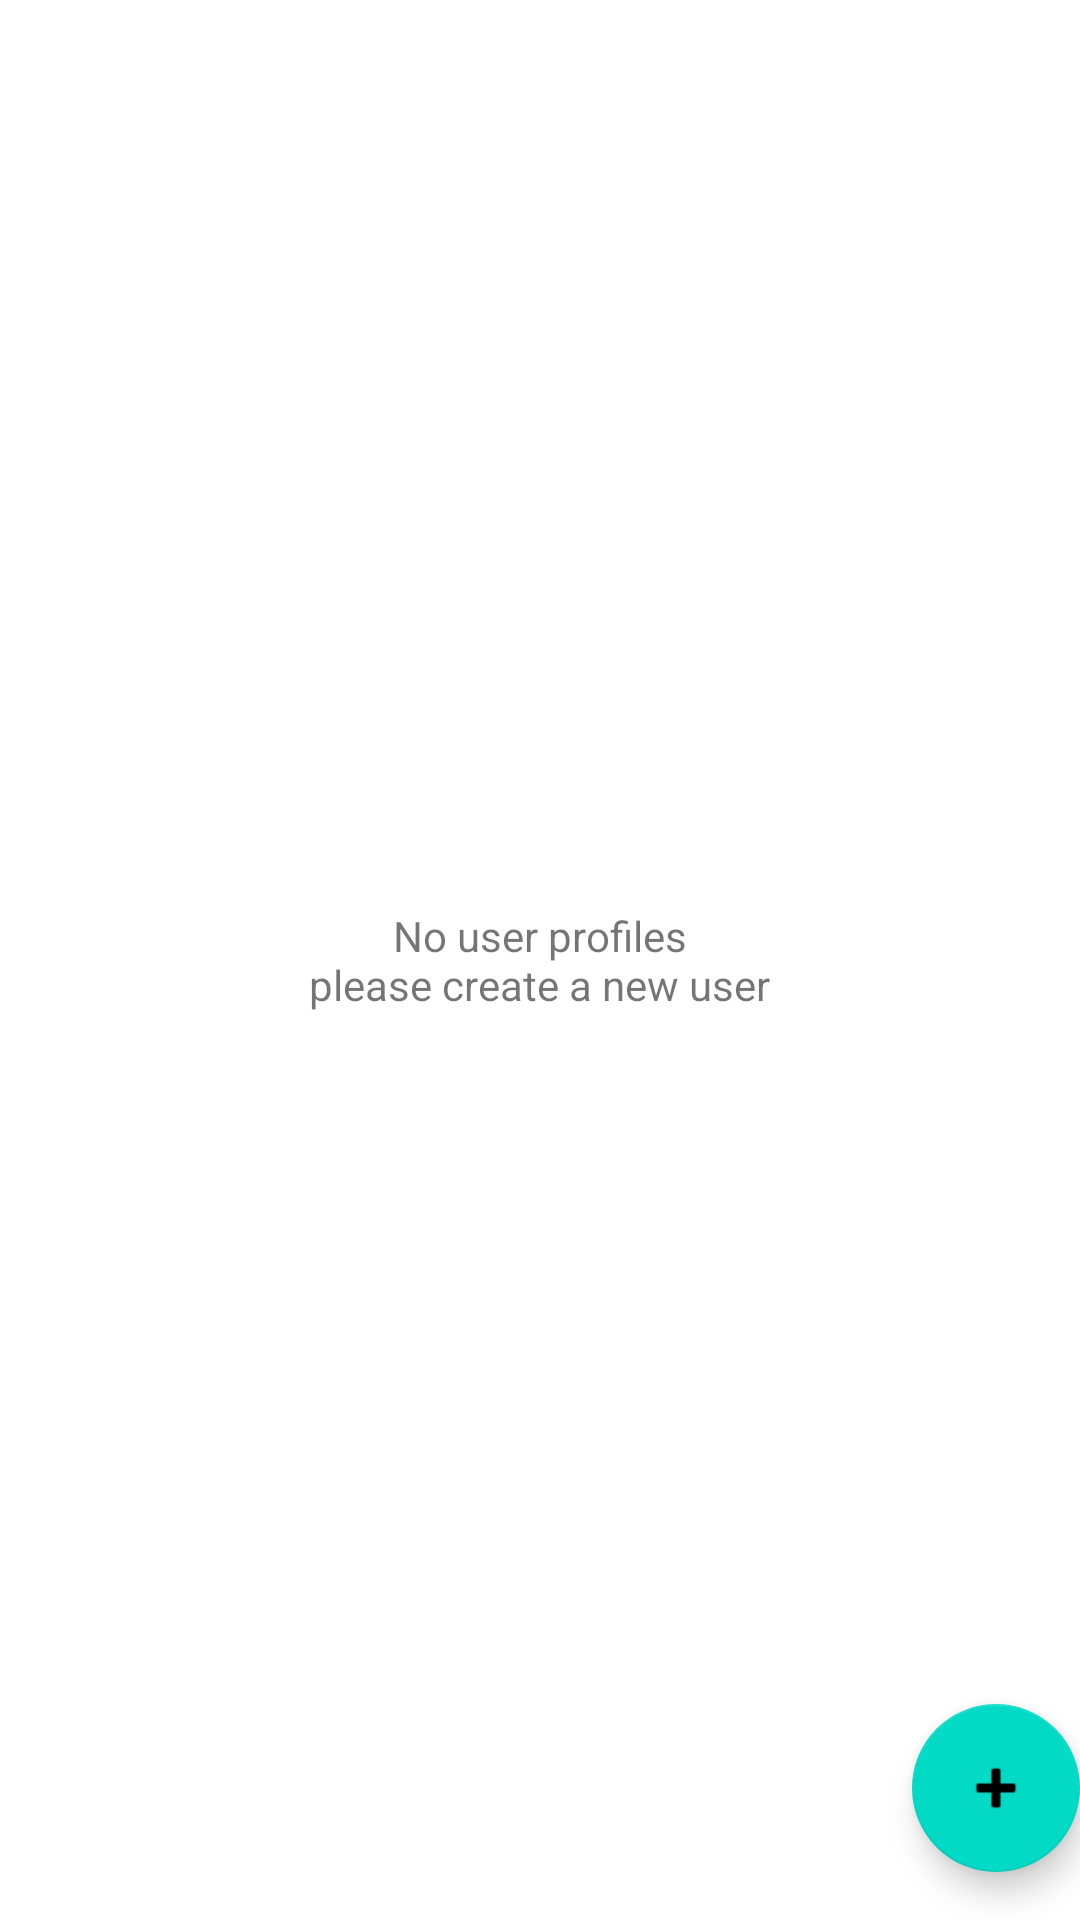

Point at icon controls on the screen. Image size 1080px x 1920px, points as (x=x, y=y).
add: (x=996, y=1788)
